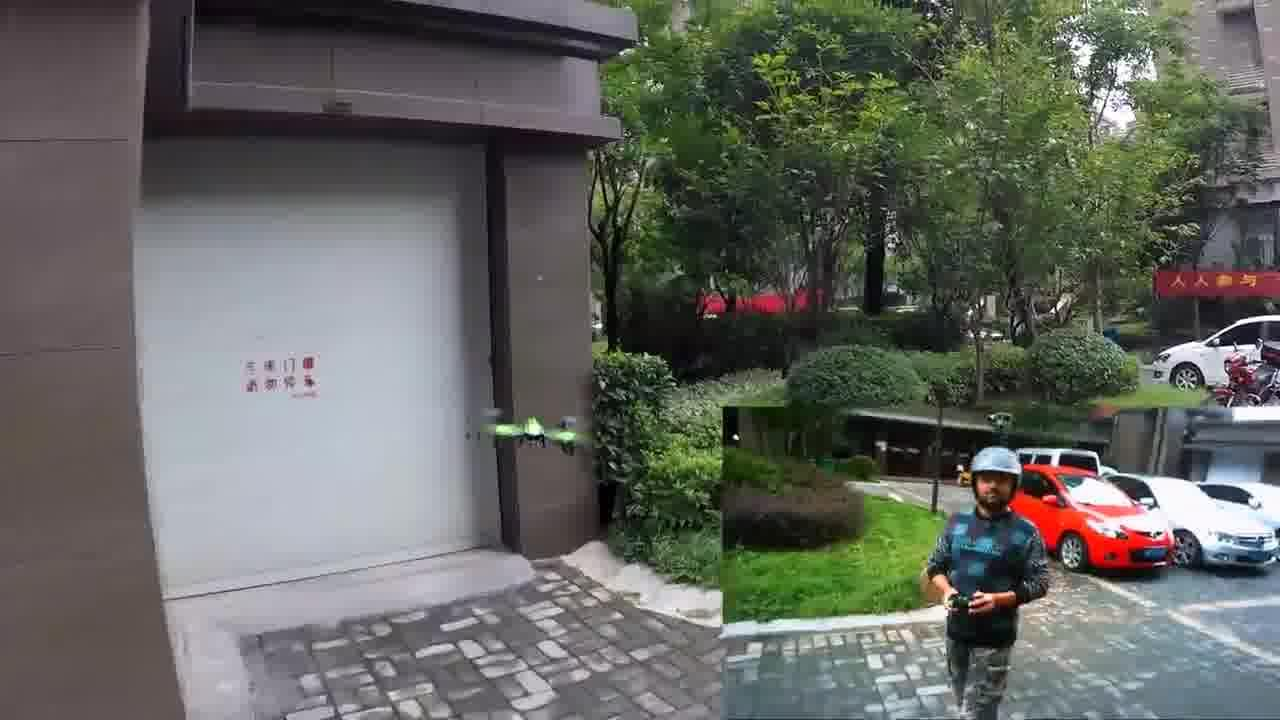drone: (467, 400, 602, 465)
